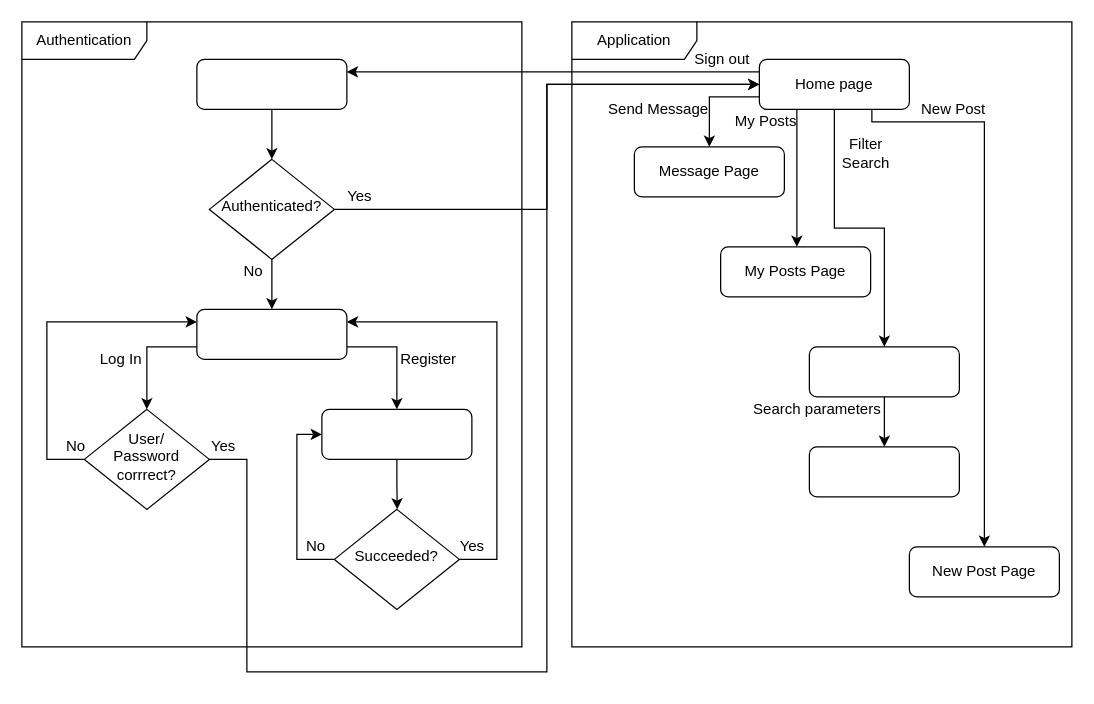
Image size: 1094x704. Some labels were removed from this diagram. Here are the shapes that lost their labels. From the top down, the centre of each, then its label:
At point 271,83: "Root page".
At point 271,333: "Login Page".
At point 883,371: "Filter Search Page".
At point 396,433: "Register Page".
At point 883,471: "Filtered results".
